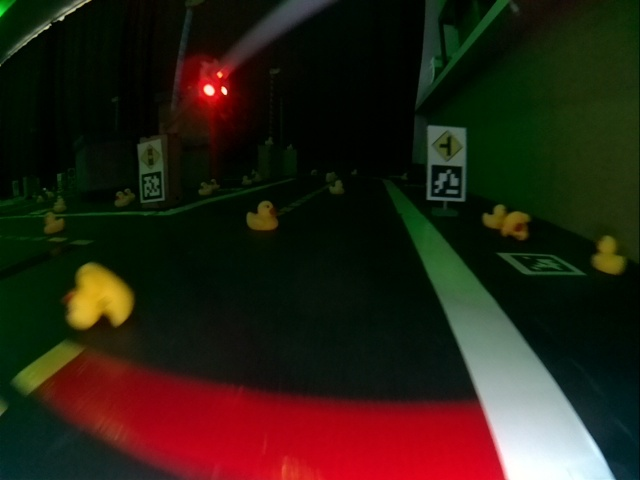Duckie: (65, 262, 134, 328), (590, 235, 625, 274), (247, 201, 279, 231), (502, 211, 530, 239), (481, 205, 507, 229), (43, 214, 64, 235), (332, 180, 345, 195), (114, 192, 126, 208), (198, 182, 211, 195), (53, 198, 66, 210), (124, 189, 136, 202), (210, 179, 220, 191), (242, 176, 252, 185)
Intersection sign: (432, 130, 463, 162)
QR code: (497, 253, 583, 276), (429, 163, 465, 200), (139, 171, 163, 202)
Signal sign: (138, 142, 163, 170)
Traffic light: (198, 64, 229, 102)
